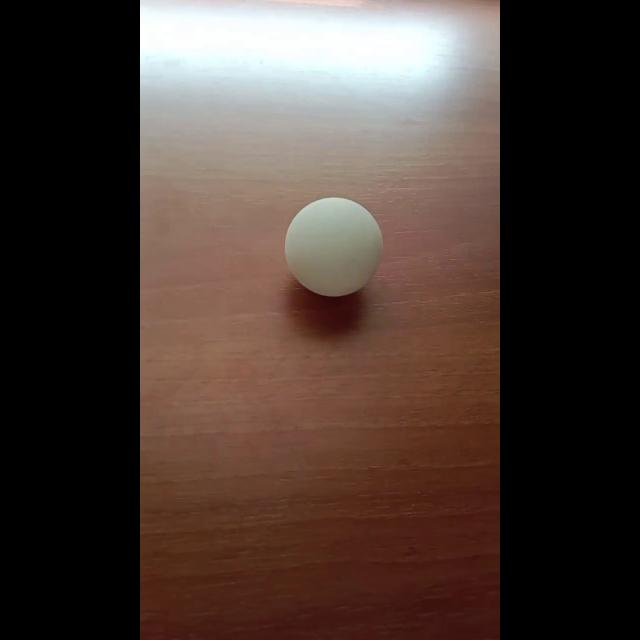white ball: (284, 195, 384, 297)
